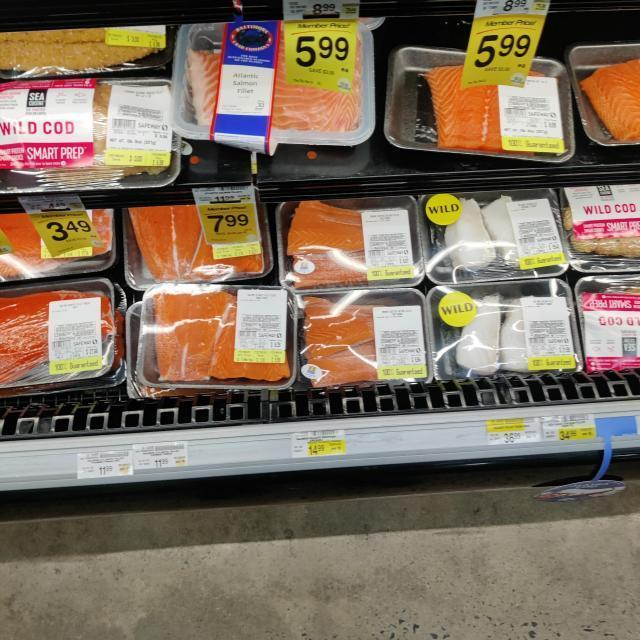Meat: (182, 26, 378, 147), (387, 48, 574, 154), (0, 82, 184, 186), (139, 284, 298, 386), (436, 281, 574, 382), (424, 194, 574, 280), (301, 289, 426, 388), (291, 197, 420, 290), (0, 279, 114, 384), (124, 210, 272, 282), (561, 186, 640, 268), (579, 278, 640, 378)
